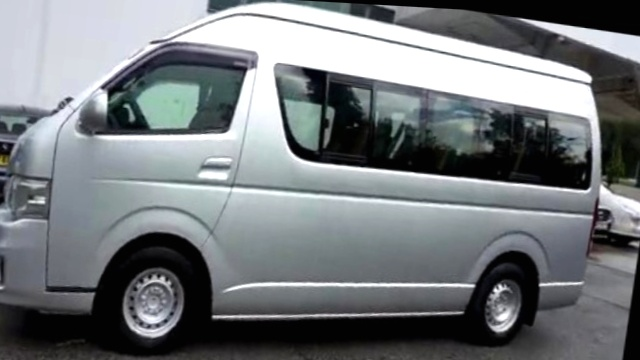van: (0, 0, 626, 360)
